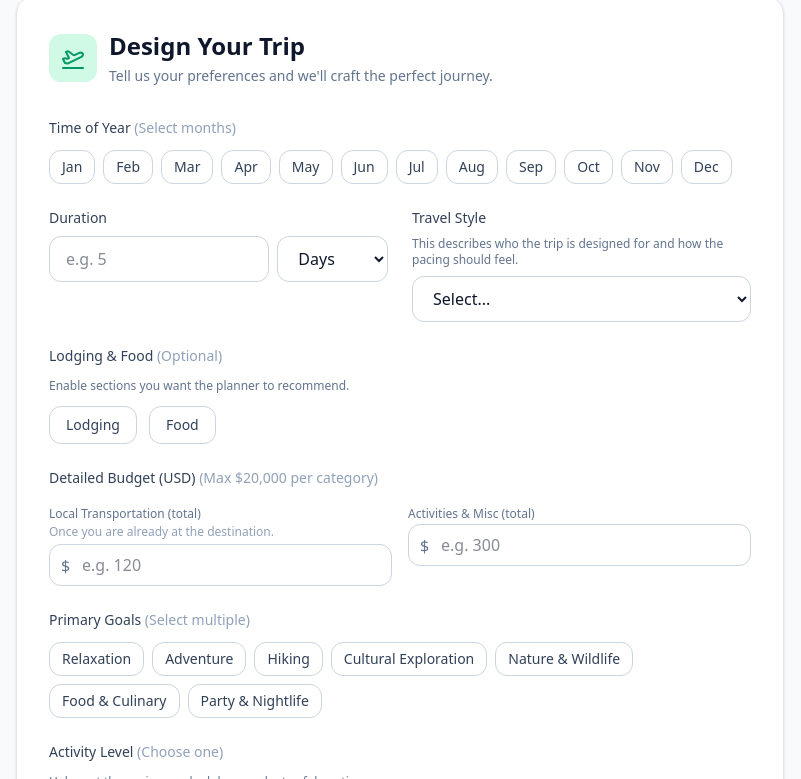
Test: TravelForm Component › shows validation error if submitted empty
Type "5" into the number field with placeholder "e.g. 5" at (159, 259), box [49, 236, 269, 282]
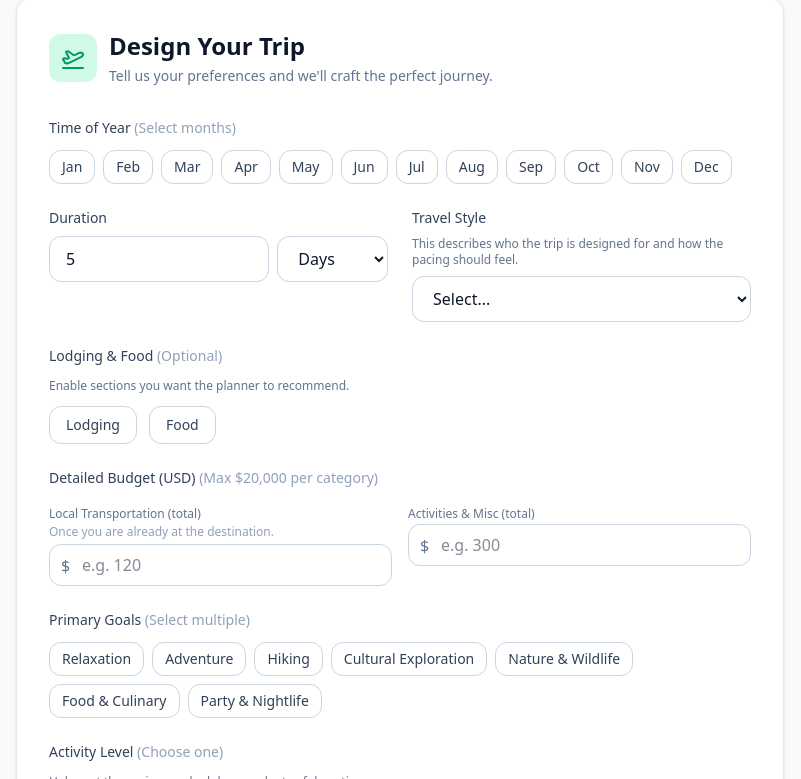
Select "Solo - independent, flexible pacing" in the dropdown labelled "Travel Style" at (582, 299), box [412, 276, 751, 322]
(page scrolled)
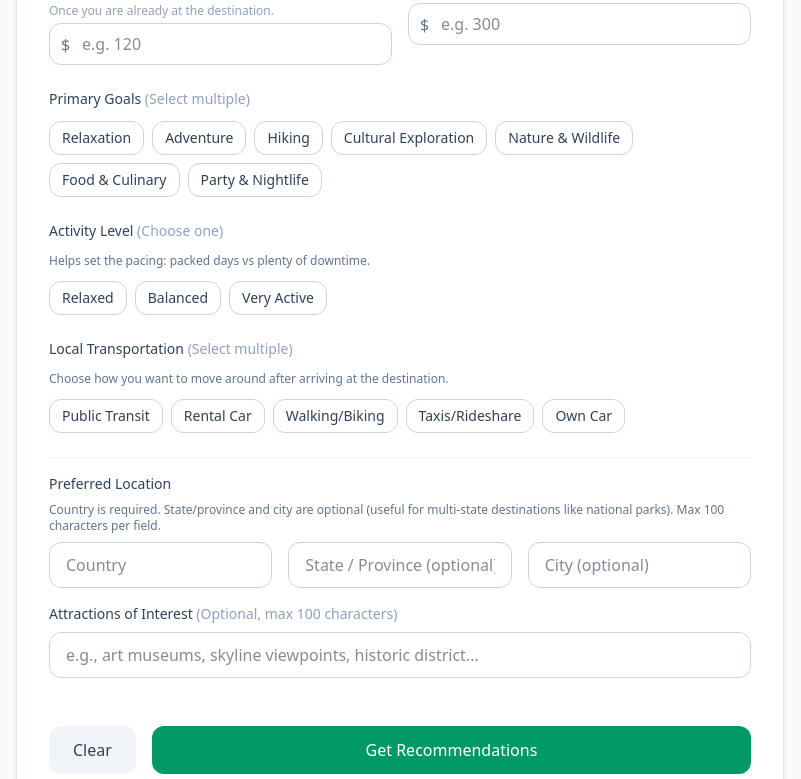
Type "Japan" into the field with placeholder "Country" at (161, 565), box [49, 542, 272, 588]
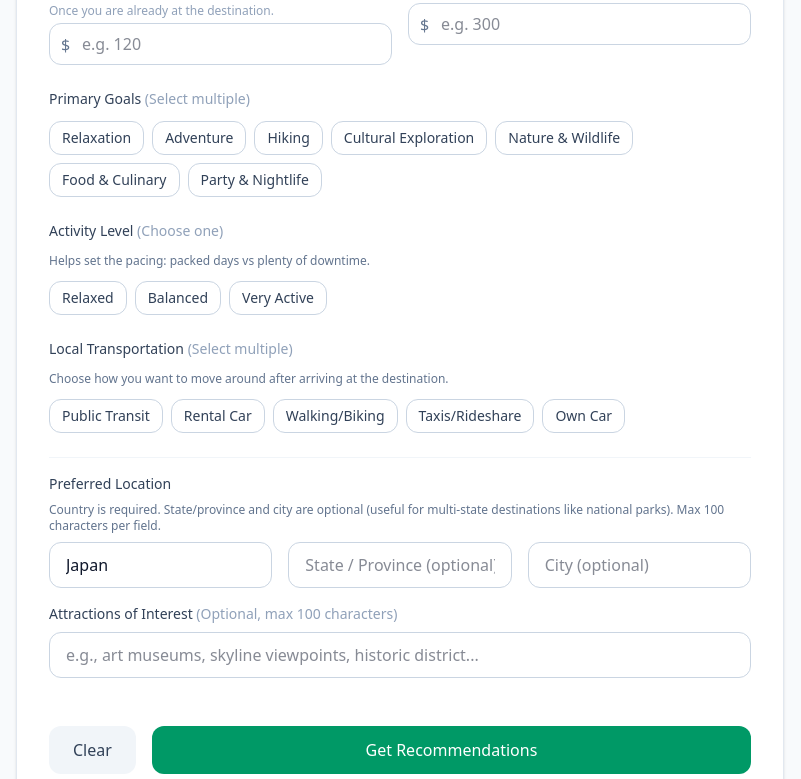
Click the button "Get Recommendations" at (451, 750), box [152, 726, 751, 774]
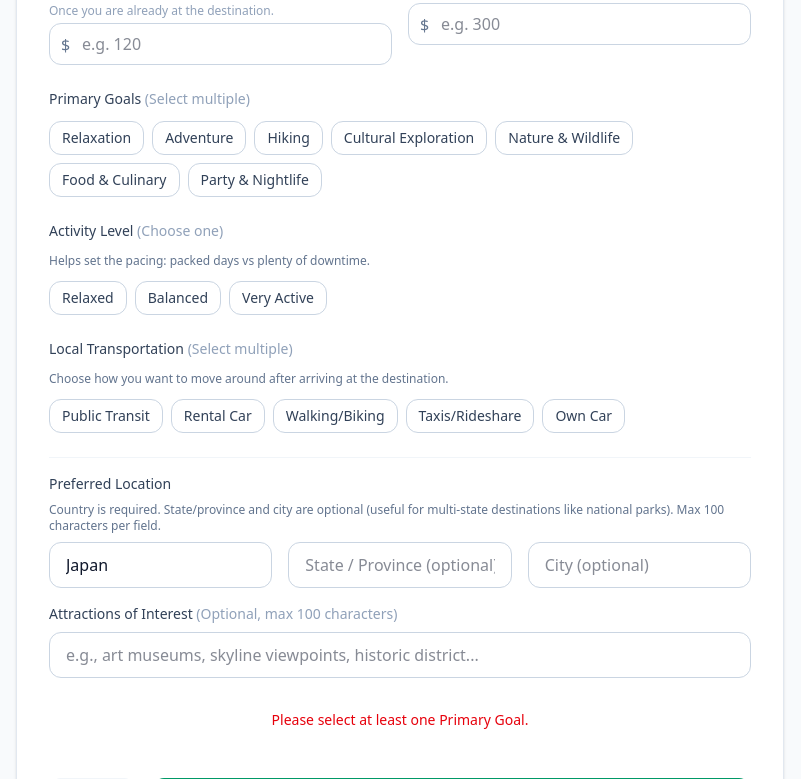
Expected: the text "Please select at least one Primary Goal." is shown, [272, 710, 528, 729]
